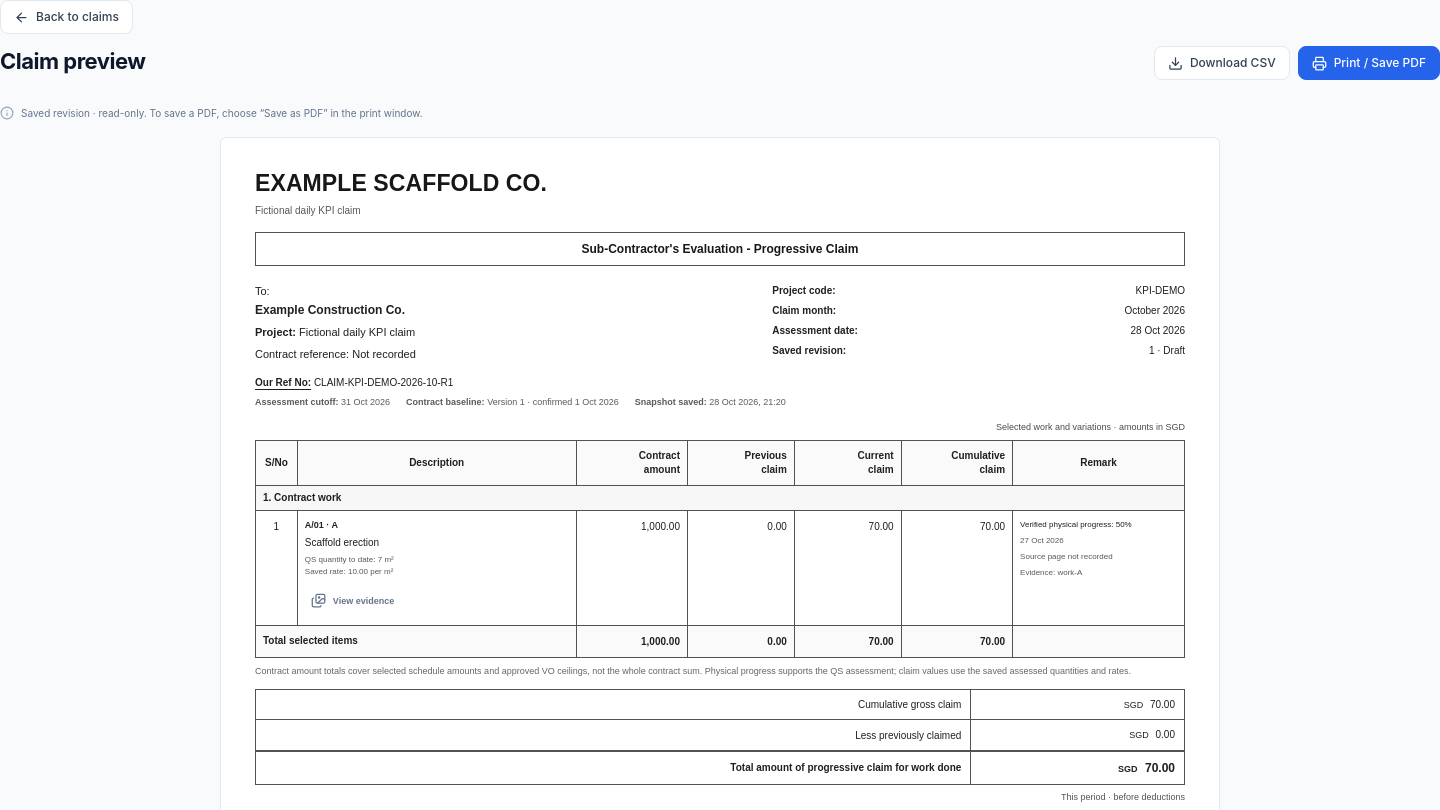
Test: daily KPI in saved claim evidence › shows the frozen original and separate reply in preview and evidence panel without deriving claim quantities
Expected: the table named "Progressive claim schedule" shows "QS quantity to date: 7", [255, 422, 1185, 658]
Expected: the table named "Progressive claim schedule" shows "70.00", [869, 521, 894, 532]
Click the button with aria-label "View evidence for A/01": (352, 601) [305, 584, 400, 618]
(page scrolled)
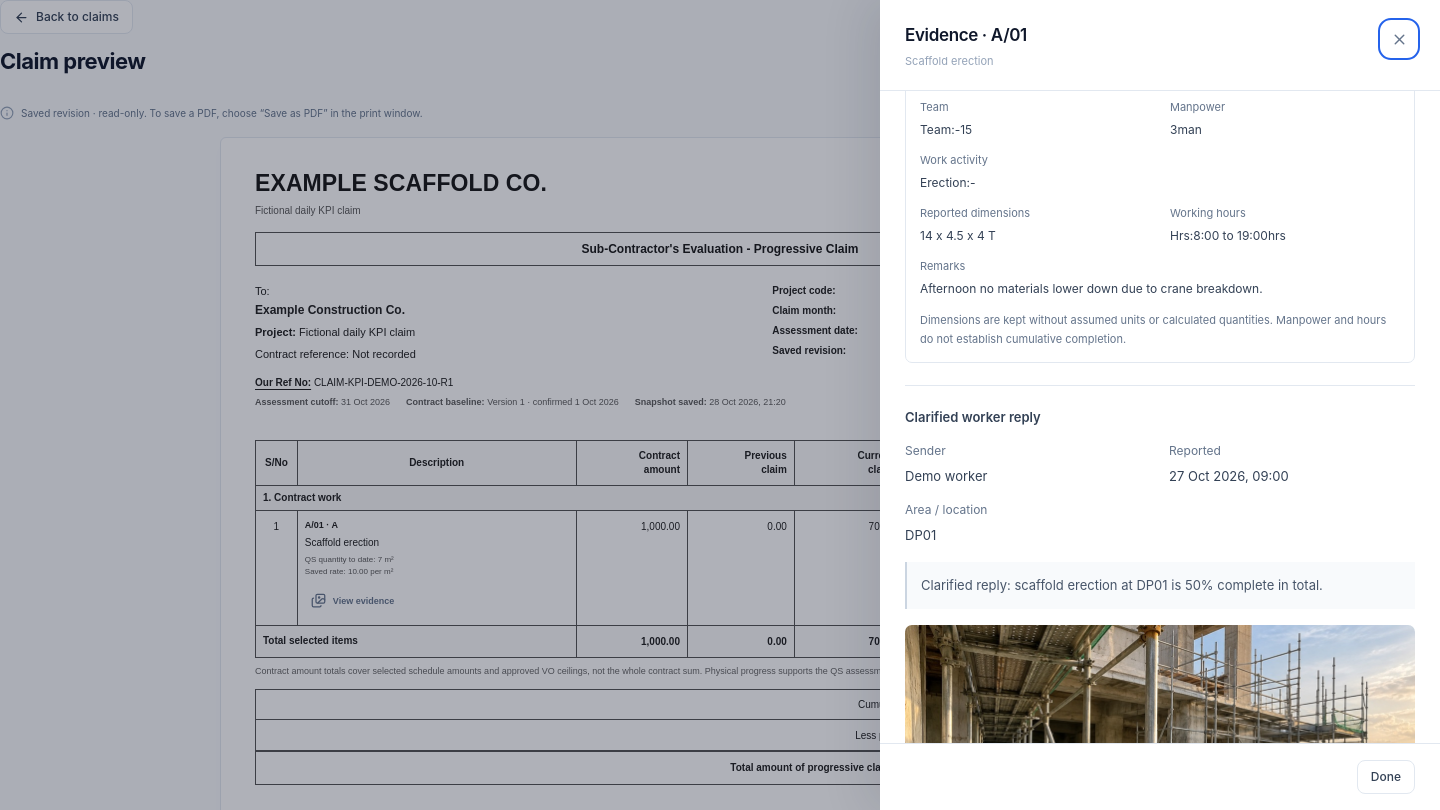
Now the heading "Clarified worker reply" is shown, box [905, 409, 1041, 425]
